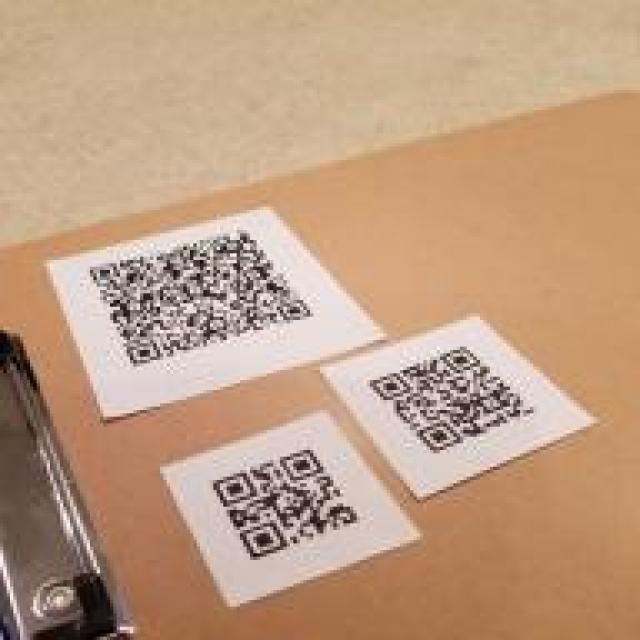QR_CODE: (77, 223, 320, 380), (365, 340, 547, 457), (204, 443, 364, 567)
